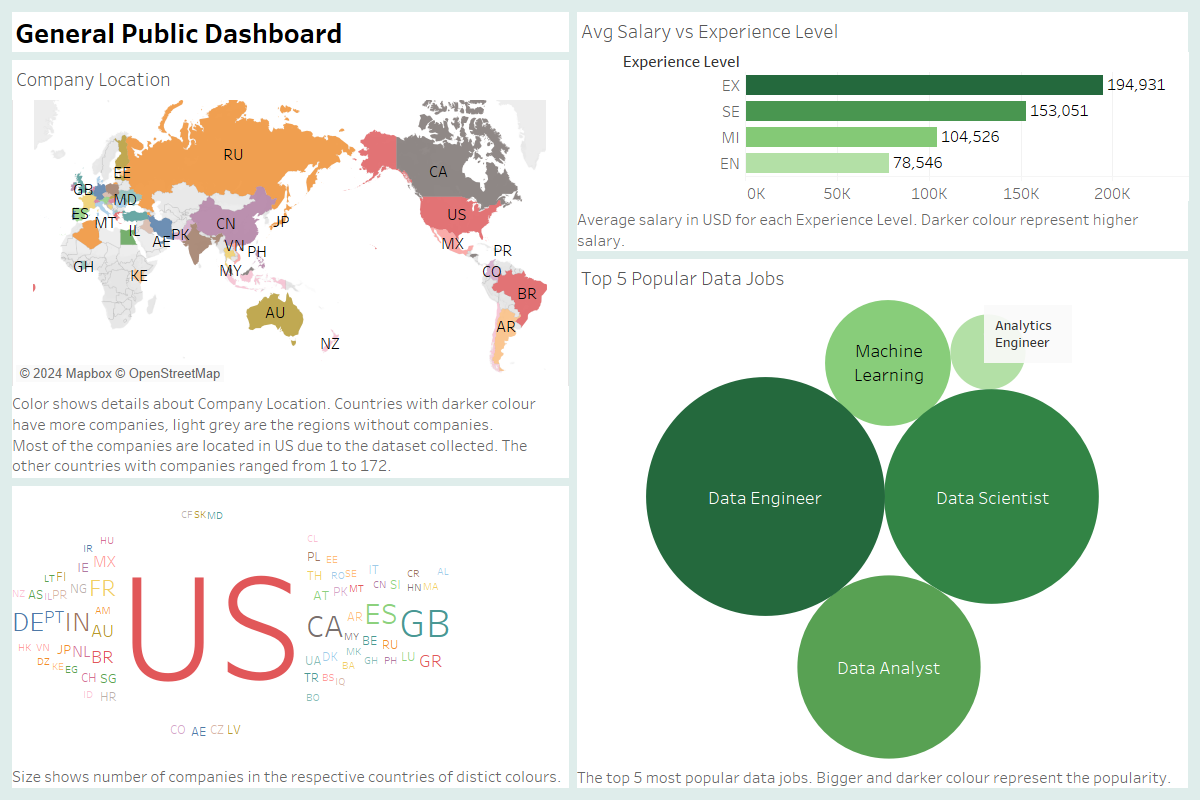

The dashboard page shown, as its layout file describes it:
{"tool":"tableau","page":{"name":"General public","canvas":[1200,800],"ordinal":0},"visuals":[{"type":"text","box":[8,8,565,48]},{"type":"worksheet","title":"Company location Word map","mark":"Text","box":[573,8,619,331]},{"type":"worksheet","title":"top-5-popular-data-jobs","mark":"Circle","box":[8,56,565,504]},{"type":"worksheet","title":"Company location Map","mark":"Multipolygon","box":[573,339,619,453]},{"type":"worksheet","title":"Avg Salary vs Exp level","mark":"Automatic","rows":["experience_level"],"cols":["salary_in_usd"],"box":[8,560,565,232]}]}

Visuals, with their boxes in screenshot pixels (x1, y1, x2, y2), scaled from the page's 1200x800 canvas onto the 1200x800 screenshot:
text: <box>8,8,573,56</box>
"Company location Word map" worksheet (Text marks): <box>573,8,1192,339</box>
"top-5-popular-data-jobs" worksheet (Circle marks): <box>8,56,573,560</box>
"Company location Map" worksheet (Multipolygon marks): <box>573,339,1192,792</box>
"Avg Salary vs Exp level" worksheet: <box>8,560,573,792</box>
